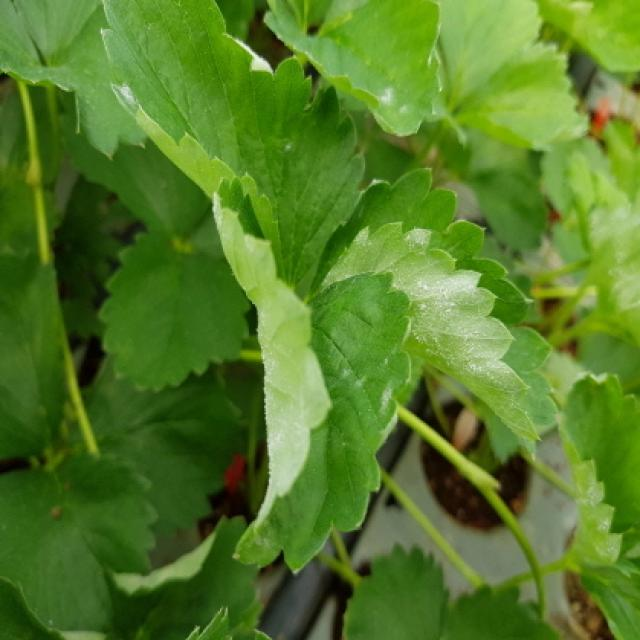Powdery Mildew Leaf: (212, 172, 413, 577), (100, 0, 369, 291), (310, 164, 560, 464), (261, 0, 443, 140), (556, 371, 638, 638)
